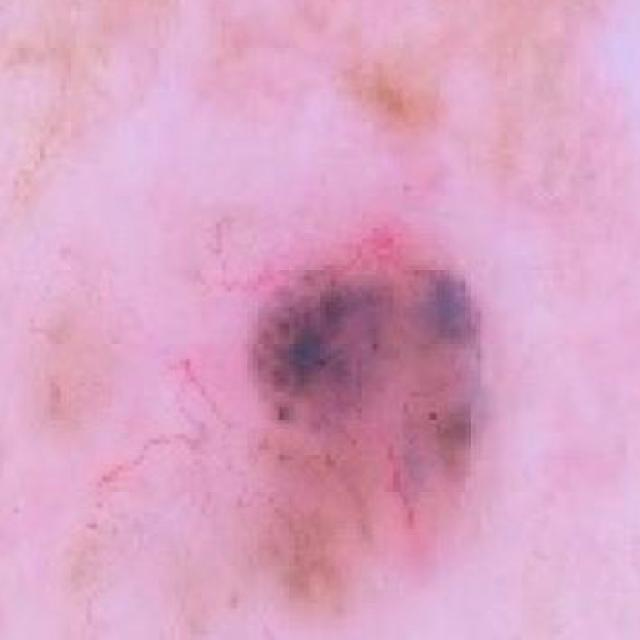BCC: (160, 63, 569, 640)
